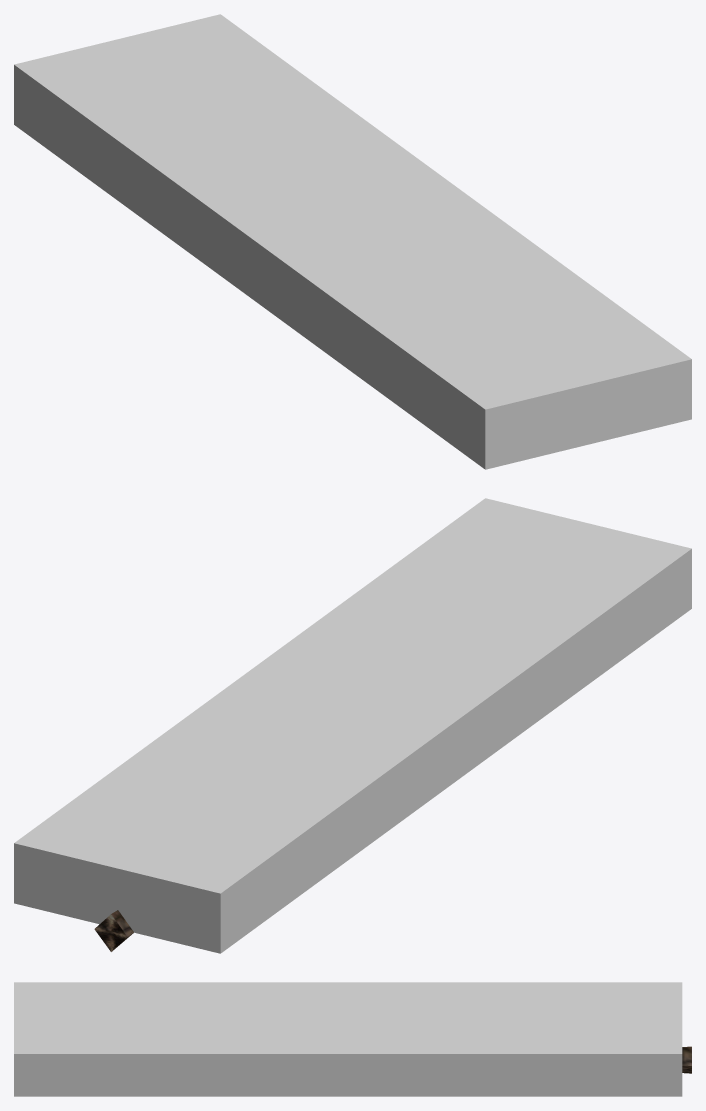
3 renders of one model, top to bottom at view 1: azimuth 30°, elevation 25°; view 2: azimuth 150°, elevation 25°; view 3: azimuth 270°, elevation 25°, orthographic. The views are drawn at different scales.
Parts seen in each view (by area): view 1: lsat; view 2: lsat, W0_34; view 3: lsat, W0_34.
Boxes of the visible parts, x1,y1,x2,y2 form: lsat: (14, 14, 691, 469); lsat: (14, 498, 691, 953); W0_34: (94, 910, 133, 951); lsat: (14, 982, 682, 1096); W0_34: (682, 1046, 691, 1073).
Bounding box in the file's own units: 6.16 × 2.26 × 24.7.
